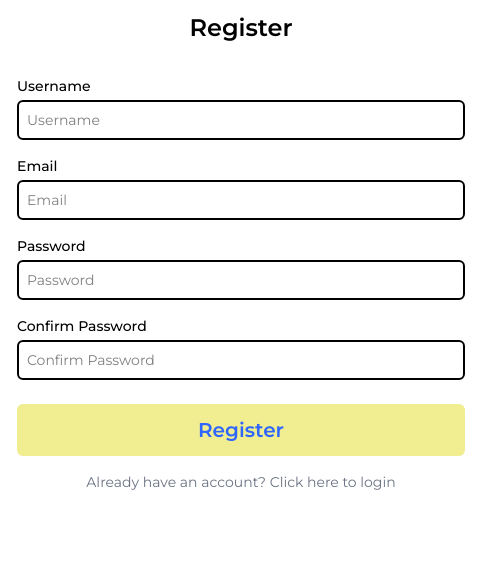
Test: RegisterView › should display error messages when the form is submitted with empty fields
Click the button "Register".
click(241, 430)  # box [17,404,465,456]
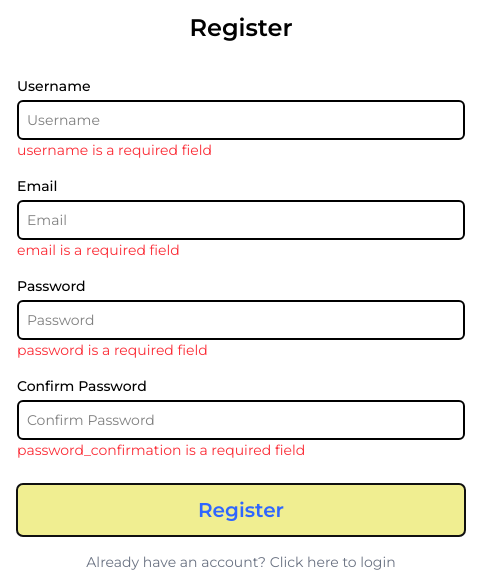
Expected: the text "username is a required field" is shown, [17,141,212,159]
Expected: the text "email is a required field" is shown, [17,241,180,259]
Expected: the text "password is a required field" is shown, [17,341,208,359]
